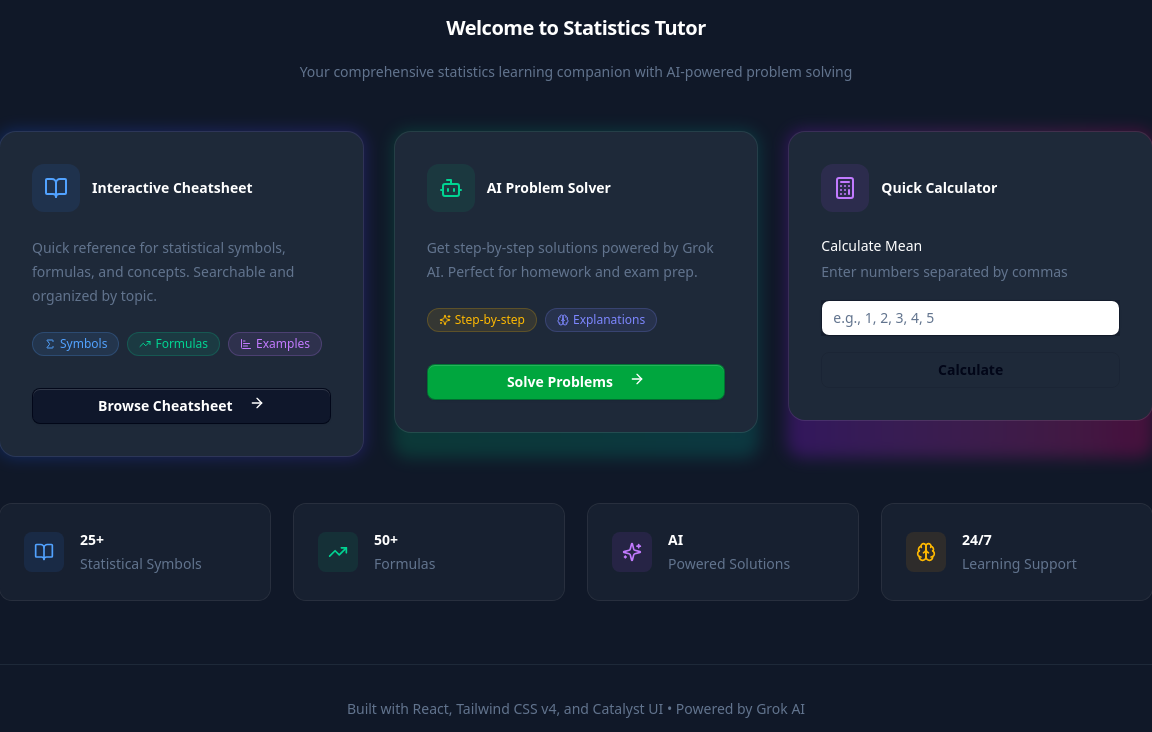
HomePage (unit) › should handle invalid input gracefully
The width and height of the screenshot is (1152, 732).
Step 1. Type "abc,def" into the field with placeholder "e.g., 1, 2, 3, 4, 5" → {"x": 971, "y": 318}, box [821, 300, 1120, 336]
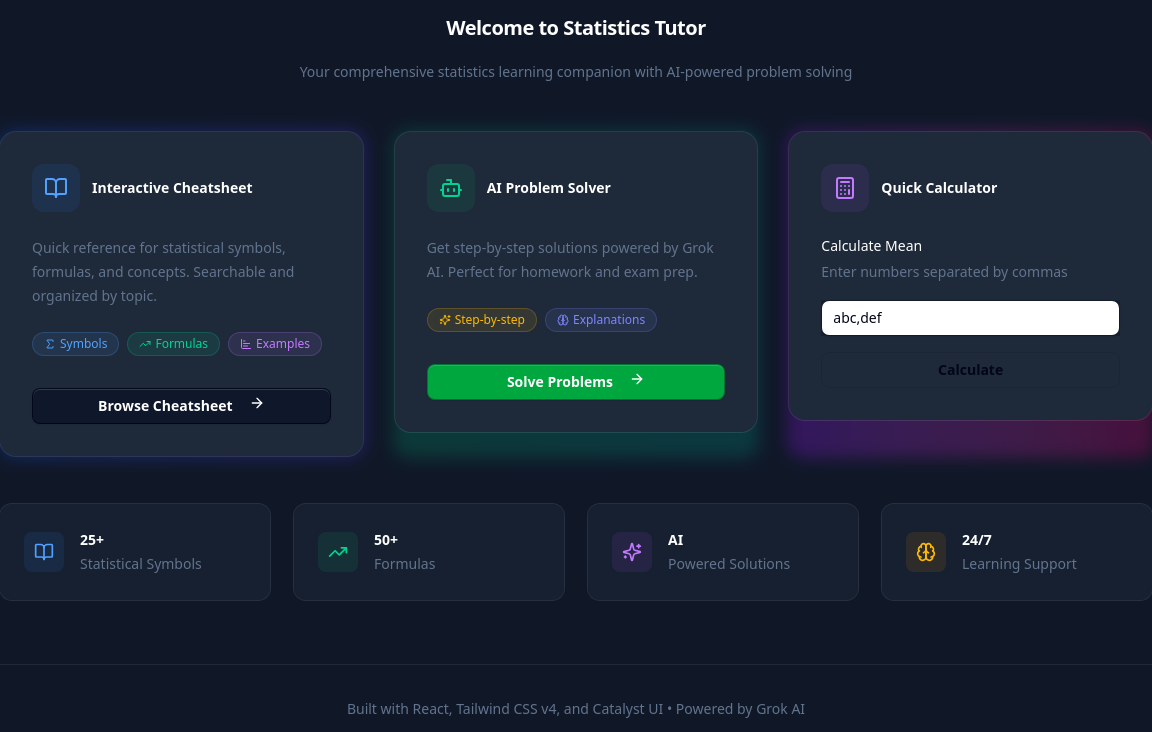
Step 2. Click the button "Calculate" → {"x": 971, "y": 370}, box [821, 352, 1120, 388]
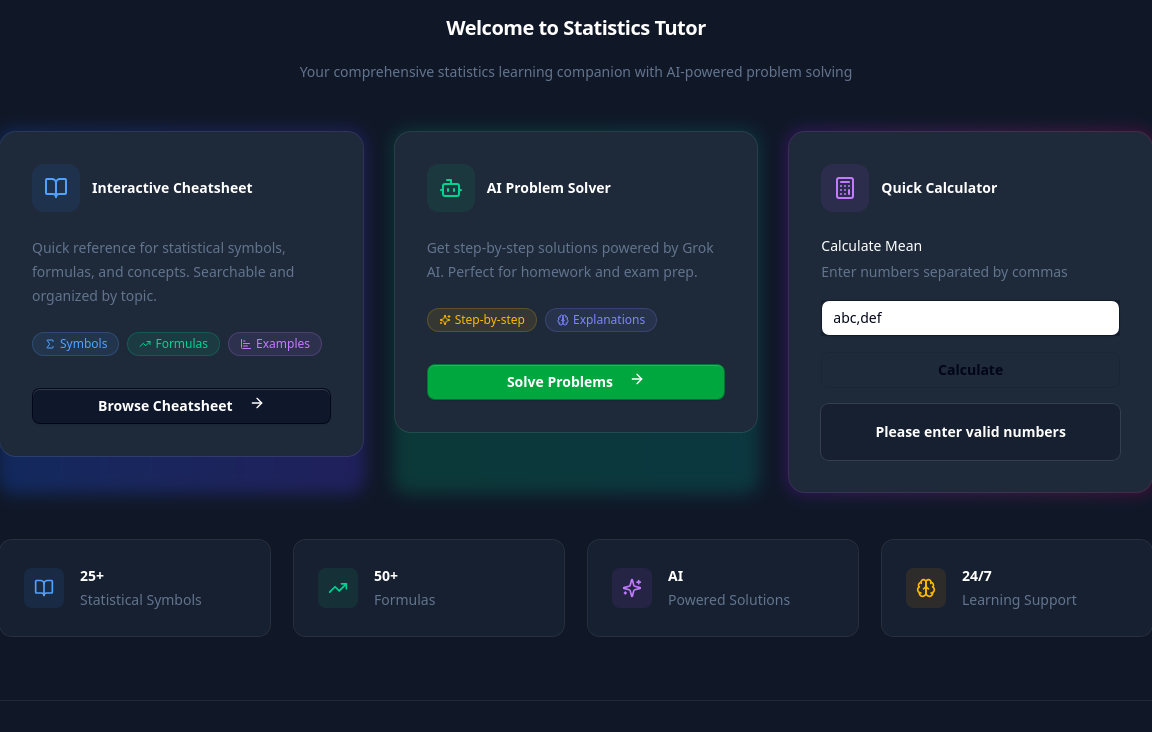
Expected: the text "Please enter valid numbers" is shown, [875, 422, 1066, 441]
